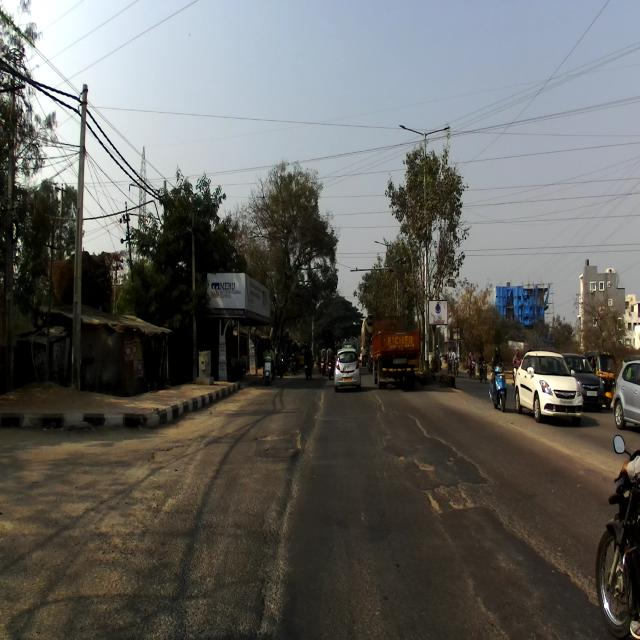truck ahead at: (374, 311, 421, 389)
